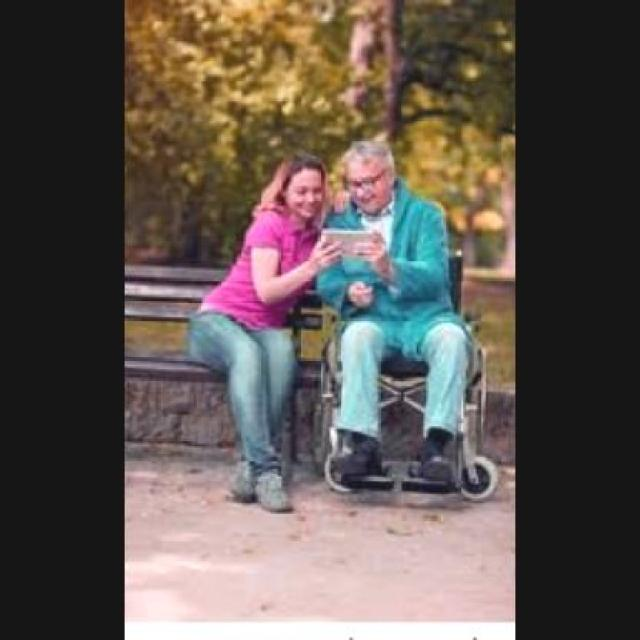wheelchairs: (303, 231, 497, 503)
